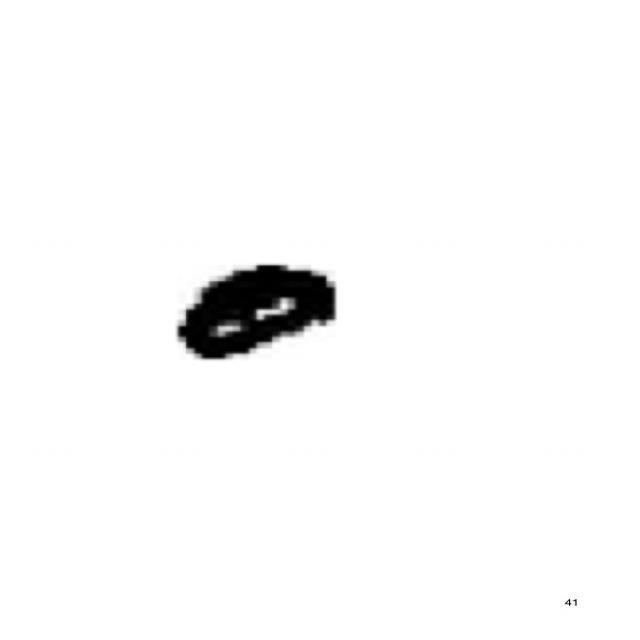0 -zero-: (164, 253, 350, 366)
